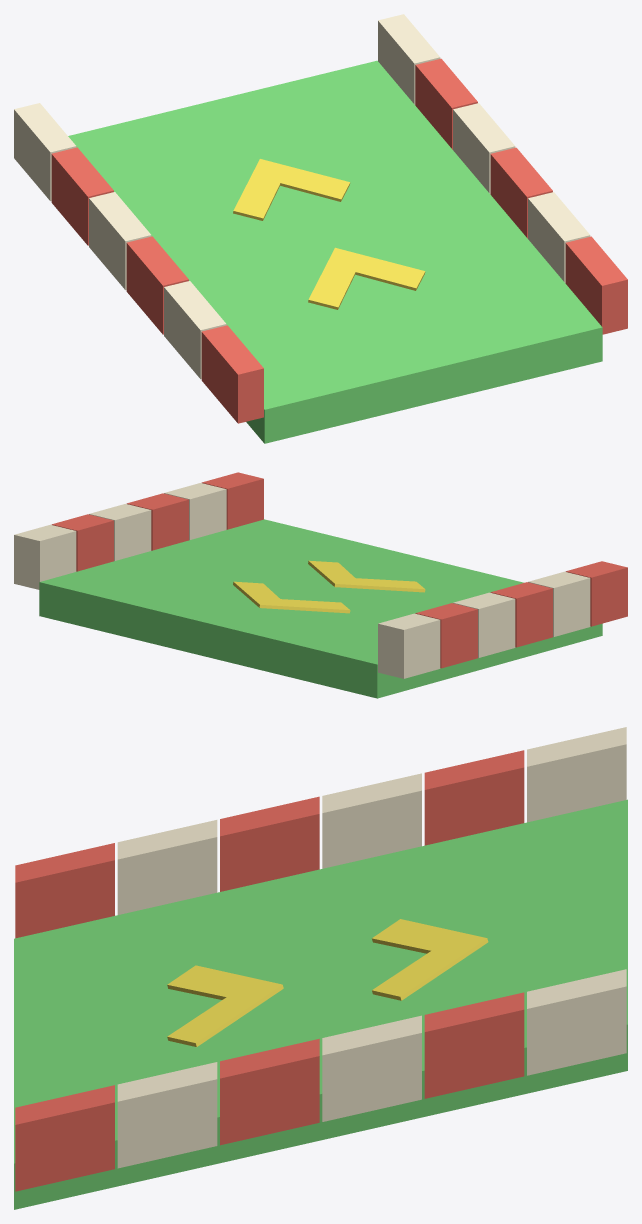
File: carnival_ramp_up_15deg_6x6.glb
The picture shows the model from 3 angles, top to bottom: view 1: azimuth 30°, elevation 25°; view 2: azimuth 150°, elevation 25°; view 3: azimuth 270°, elevation 25°; orthographic projection. The views are drawn at different scales.
Parts seen in each view (by area): view 1: Mesh_Floor.002, Mesh_Wall_L.002, Mesh_Wall_R.002, Mesh_Detail_Chevrons; view 2: Mesh_Floor.002, Mesh_Wall_L.002, Mesh_Wall_R.002, Mesh_Detail_Chevrons; view 3: Mesh_Floor.002, Mesh_Wall_R.002, Mesh_Wall_L.002, Mesh_Detail_Chevrons.
Boxes of the visible parts, x1=… form: Mesh_Floor.002: x1=68, y1=60, x2=602, y2=443; Mesh_Wall_L.002: x1=14, y1=103, x2=263, y2=423; Mesh_Wall_R.002: x1=378, y1=14, x2=627, y2=334; Mesh_Detail_Chevrons: x1=233, y1=159, x2=425, y2=309; Mesh_Floor.002: x1=39, y1=519, x2=602, y2=698; Mesh_Wall_L.002: x1=378, y1=561, x2=627, y2=678; Mesh_Wall_R.002: x1=14, y1=472, x2=263, y2=589; Mesh_Detail_Chevrons: x1=233, y1=560, x2=425, y2=613; Mesh_Floor.002: x1=14, y1=799, x2=627, y2=1209; Mesh_Wall_R.002: x1=15, y1=969, x2=626, y2=1191; Mesh_Wall_L.002: x1=15, y1=727, x2=626, y2=938; Mesh_Detail_Chevrons: x1=167, y1=919, x2=488, y2=1046.
Size of what is drawn, in the model's own units: 6 by 2.6 by 6.
